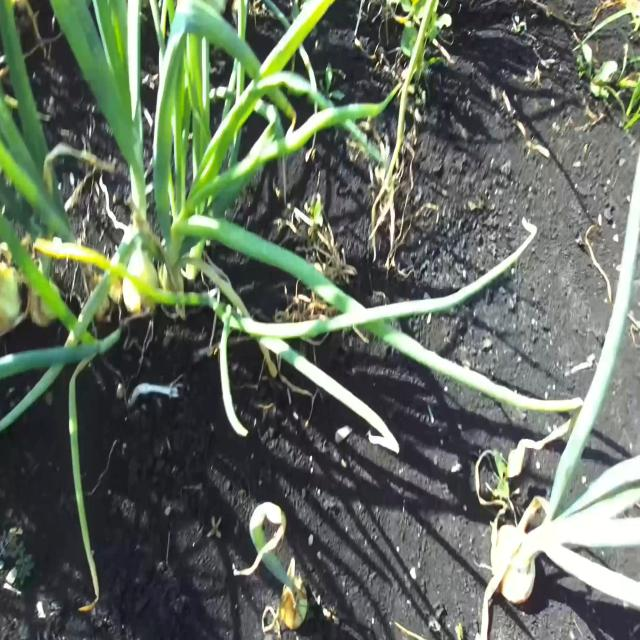onion: (494, 526, 538, 602), (122, 255, 156, 315)
